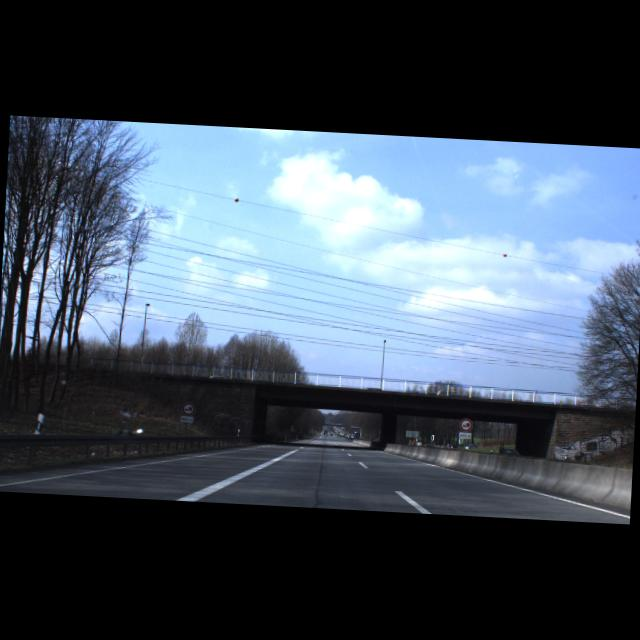prohibitory: (459, 418, 474, 432), (182, 402, 196, 417)
